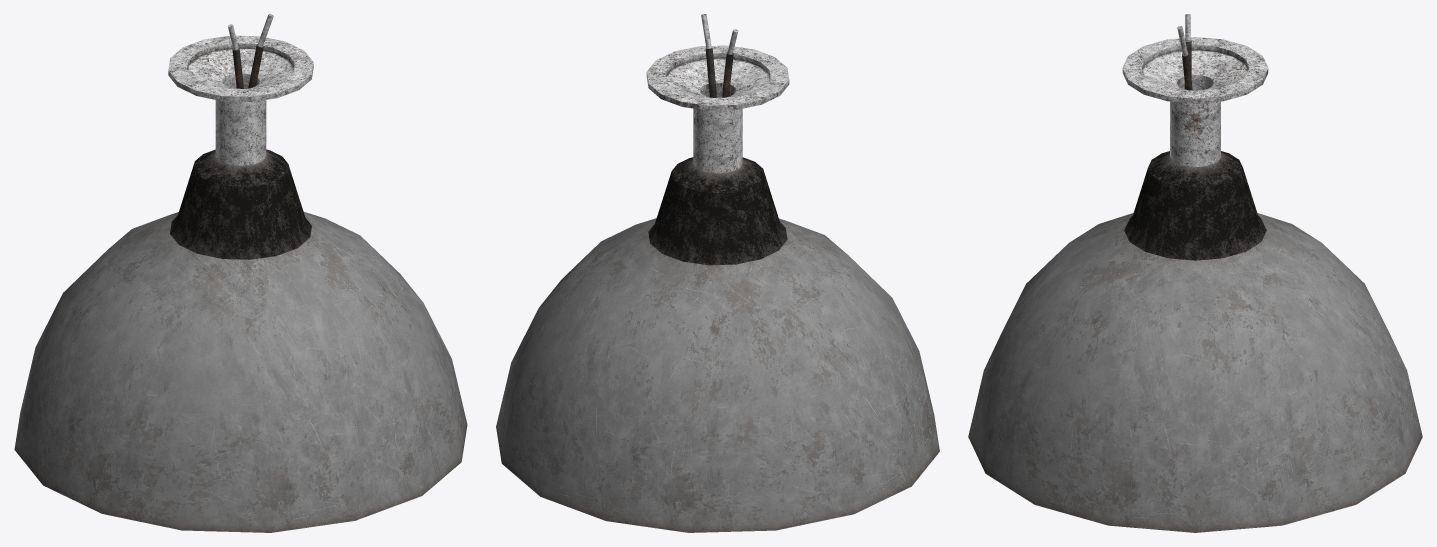
Rendered from LampCeiling01.FBX.
The picture shows the model from 3 angles, left to right: view 1: azimuth 30°, elevation 25°; view 2: azimuth 150°, elevation 25°; view 3: azimuth 270°, elevation 25°; orthographic projection. The views are drawn at different scales.
Visible parts, largest first — view 1: LampCeiling01; view 2: LampCeiling01; view 3: LampCeiling01.
Part boxes in pixels (x1,y1,x2,y2): LampCeiling01: (14,14,467,532); LampCeiling01: (496,14,939,532); LampCeiling01: (968,14,1422,532).
Size of the model in its own units: 43.3 by 44.22 by 43.3.
